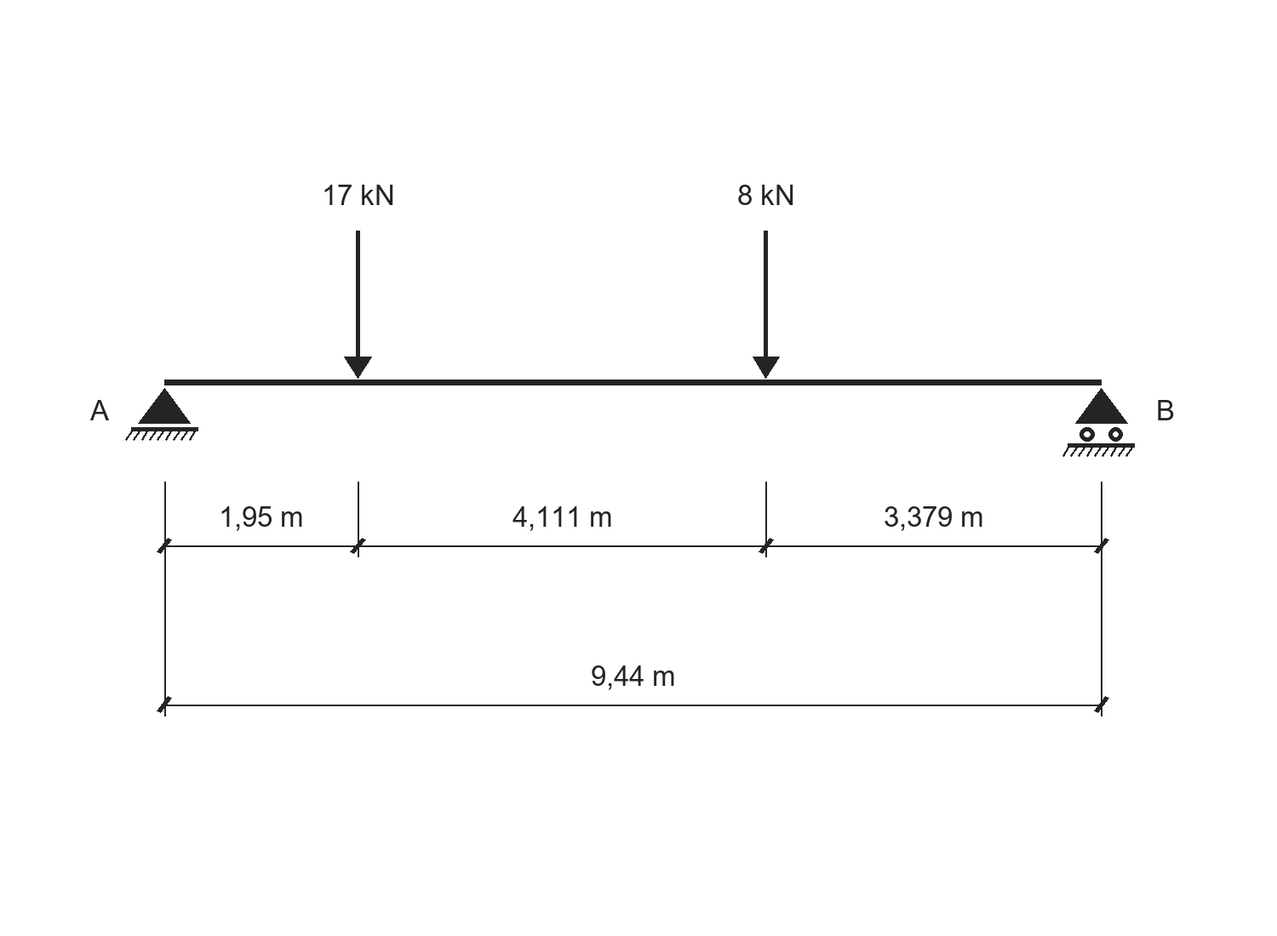pin_support: (125, 388, 198, 441)
point_load: (344, 231, 372, 379), (753, 231, 780, 379)
roller_support: (1062, 388, 1135, 457)
